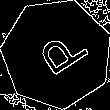P_SW: (25, 25, 88, 83)
